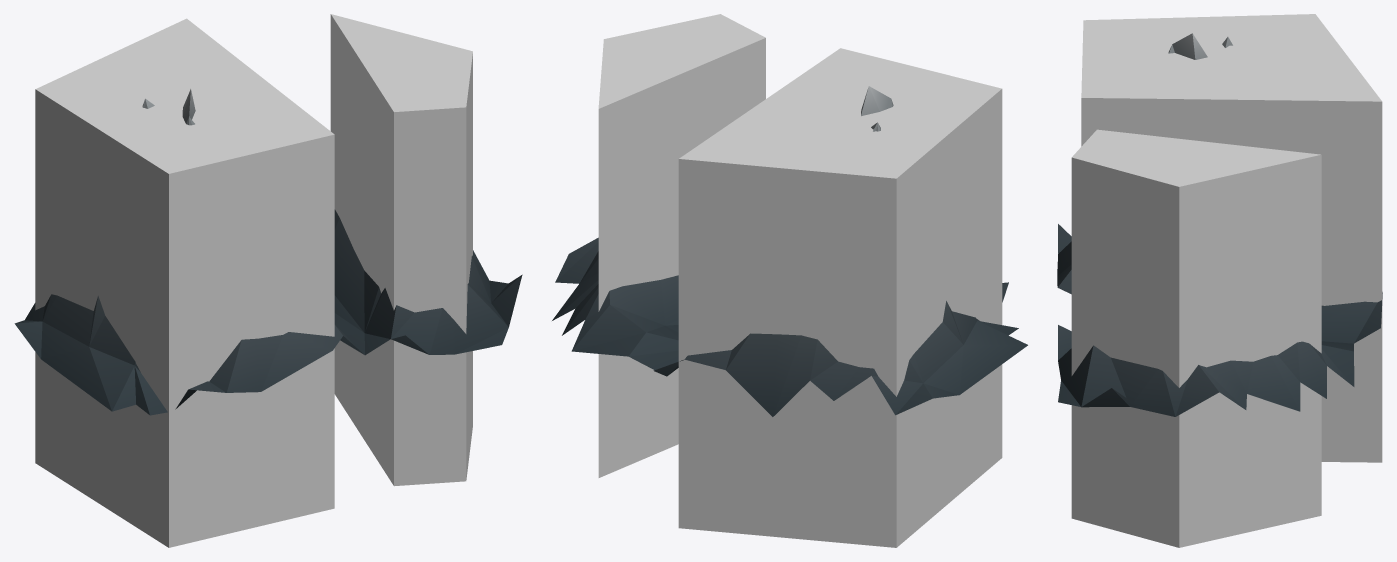
Rendered from island_small_rock_Collection_2.fbx.
3 renders of one model, left to right at view 1: azimuth 30°, elevation 25°; view 2: azimuth 150°, elevation 25°; view 3: azimuth 270°, elevation 25°, orthographic. The views are drawn at different scales.
Visible parts, largest first — view 1: islandRock_2_col, islandRock_2; view 2: islandRock_2_col, islandRock_2; view 3: islandRock_2_col, islandRock_2.
Boxes of the visible parts, box(x1,y1,x2,y2) form: islandRock_2_col: box(35, 14, 472, 547); islandRock_2: box(14, 89, 522, 415); islandRock_2_col: box(598, 14, 1002, 547); islandRock_2: box(552, 86, 1027, 416); islandRock_2_col: box(1071, 14, 1382, 547); islandRock_2: box(1057, 33, 1382, 416).
Bounding box in the file's own units: 3938 × 3655 × 2801.
